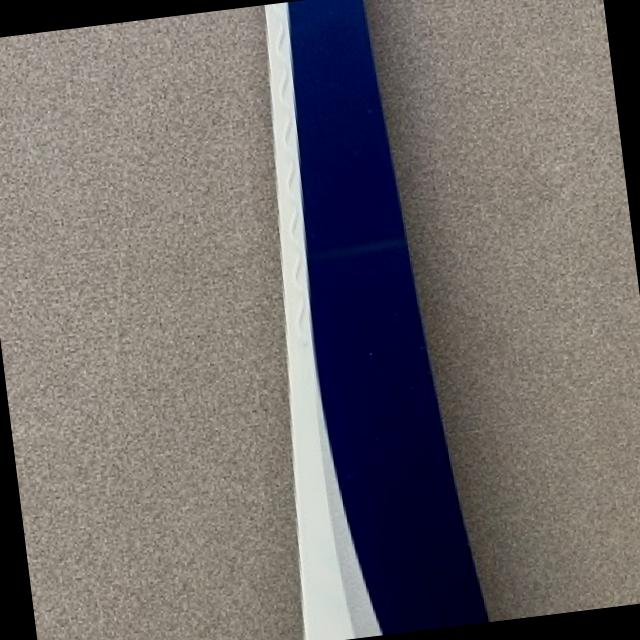healthy: (268, 0, 488, 640)
